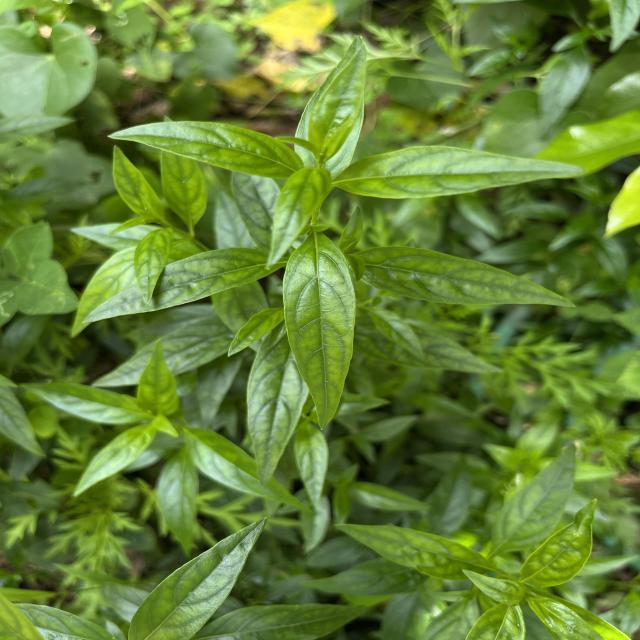Andrographis paniculata: (126, 514, 274, 640), (81, 245, 285, 326), (280, 229, 360, 432), (350, 243, 580, 310), (333, 142, 588, 200), (105, 119, 301, 183), (186, 425, 315, 516), (243, 322, 310, 490), (299, 32, 370, 170), (332, 522, 493, 582), (514, 497, 600, 591), (72, 424, 157, 499), (18, 379, 140, 425), (108, 142, 164, 224), (133, 336, 181, 420), (131, 226, 177, 304), (292, 428, 331, 511)
